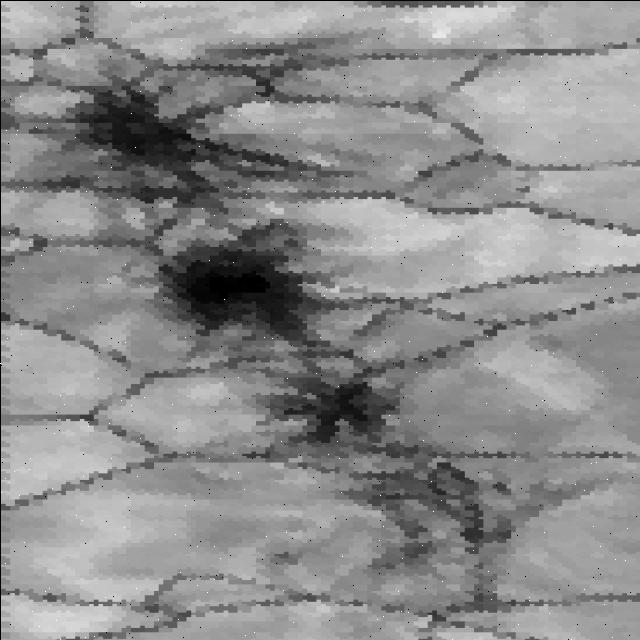good_void: (42, 83, 341, 210), (136, 216, 365, 359), (358, 460, 594, 568), (258, 372, 414, 460), (190, 31, 398, 94), (443, 576, 507, 616), (255, 536, 325, 571), (508, 182, 537, 198)
